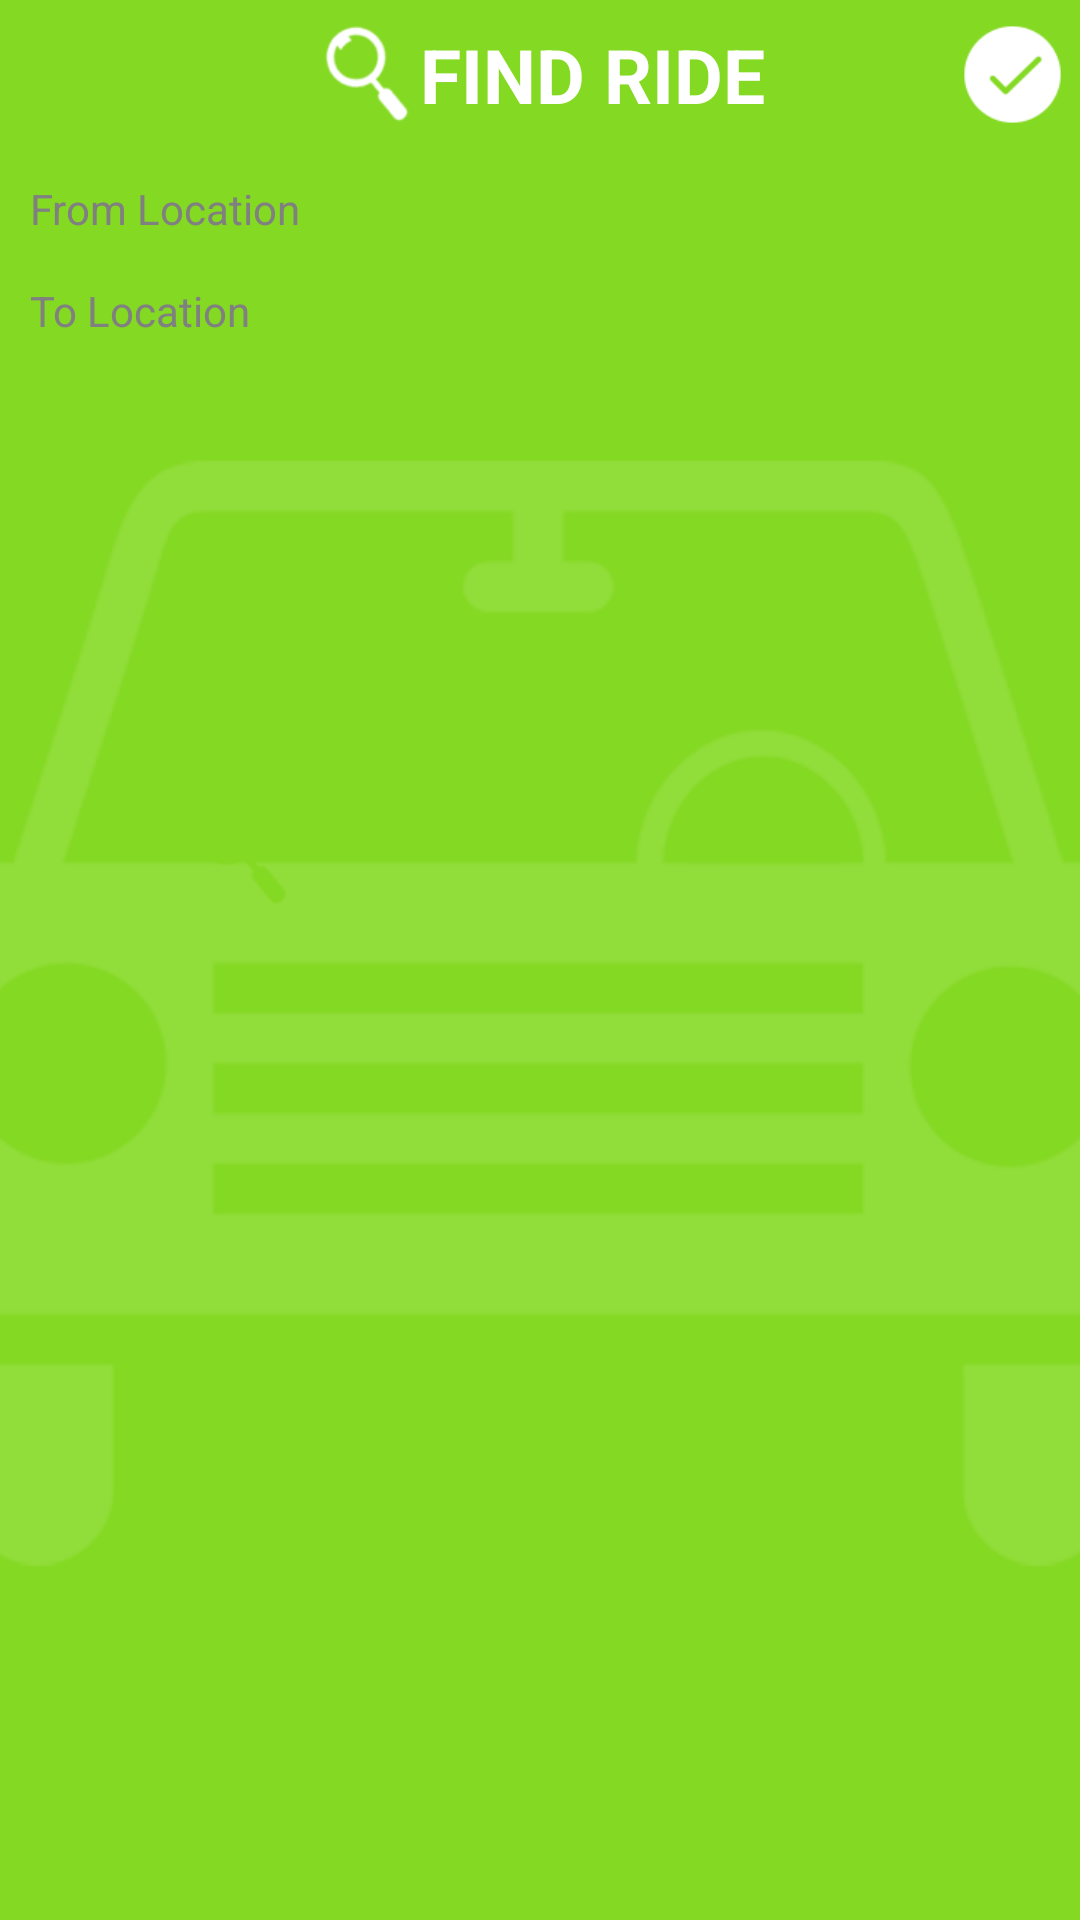

Named icons in this screenshot (1080×1920) and their bounding boxes, [left=x1, top=y1, right=x2, bottom=y2]:
check: [left=964, top=26, right=1061, bottom=123]
